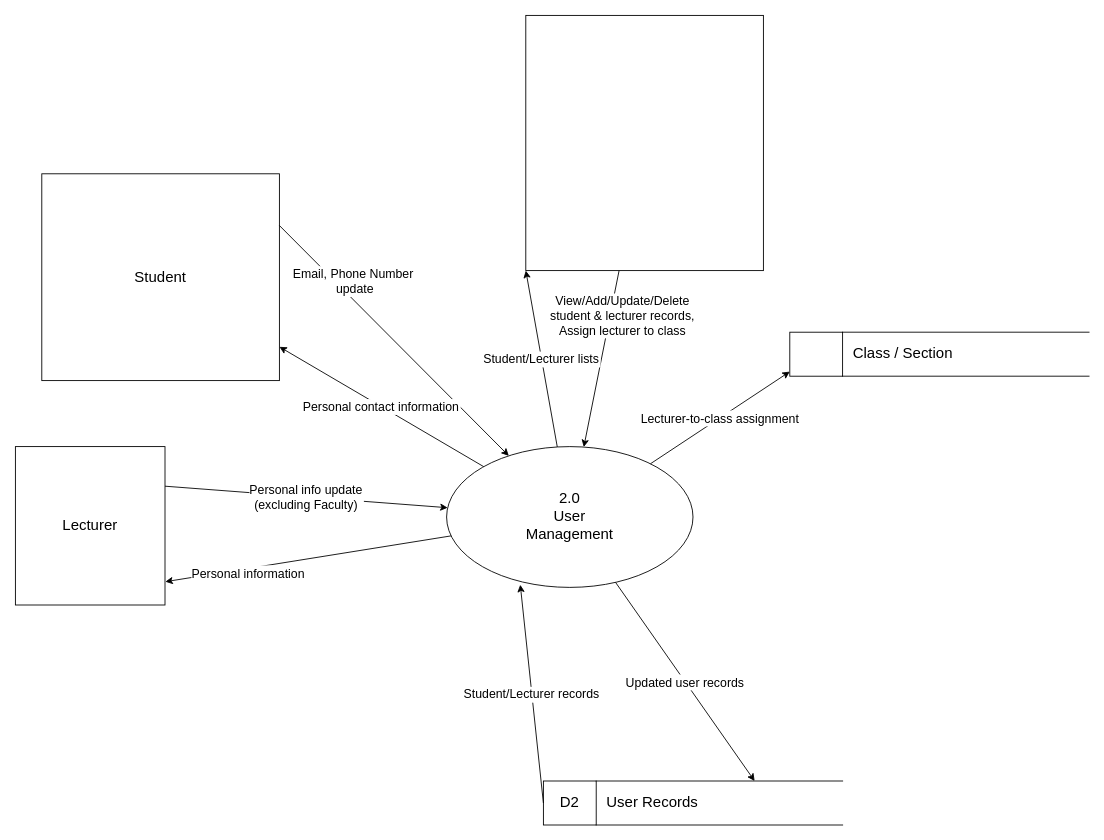
Some shapes in this 1104 by 840 pixel diagram are drawn without their labels. The centre of each missing label's shape, as x and y in pixels:
Admin: pixel 644 143
D6: pixel 816 353
